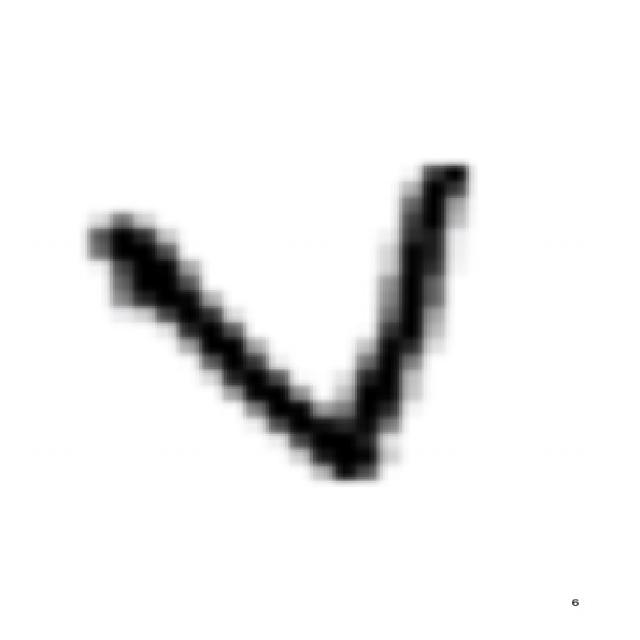7 -seven-: (70, 148, 484, 492)
